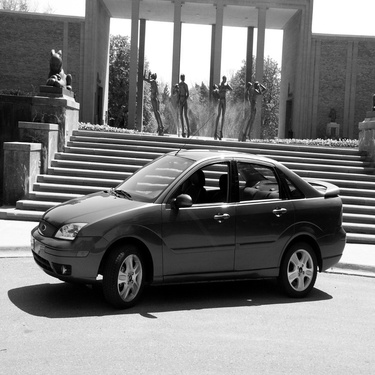car: (37, 140, 352, 314)
